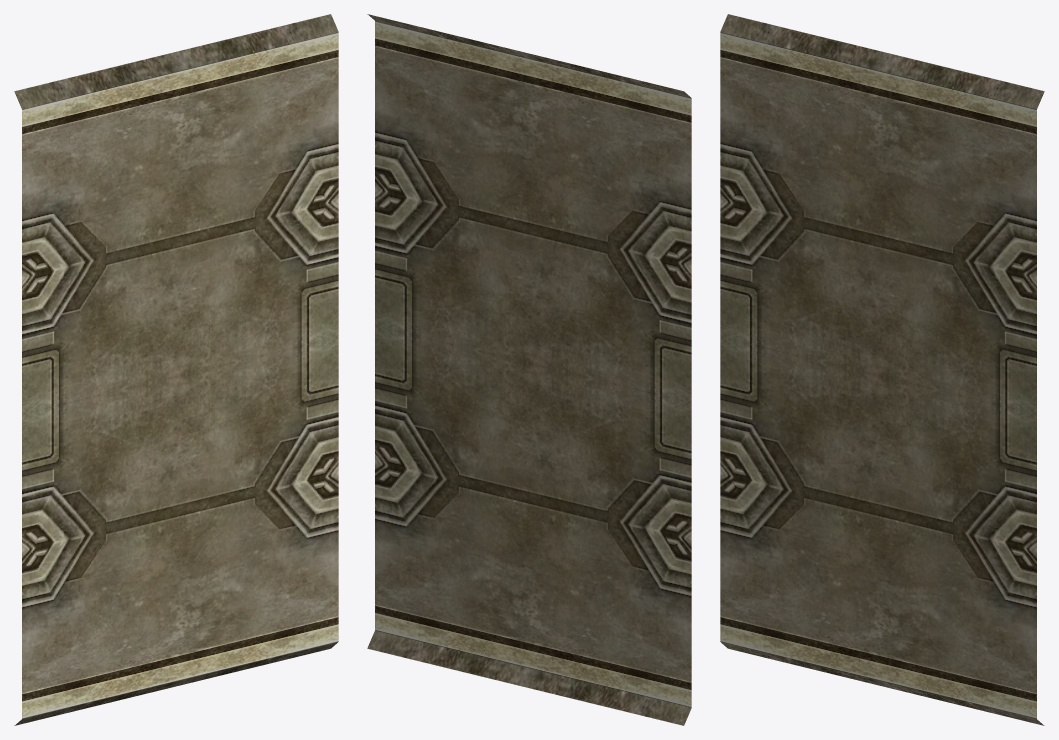
3 views of the same model, side by side, from view 1: azimuth 30°, elevation 25°; view 2: azimuth 150°, elevation 25°; view 3: azimuth 330°, elevation 25° (orthographic).
Parts seen in each view (by area): view 1: model_Object102; view 2: model_Object102; view 3: model_Object102.
Boxes of the visible parts, box(x1,y1,x2,y2) form: model_Object102: box(14, 14, 338, 725); model_Object102: box(367, 14, 691, 725); model_Object102: box(720, 14, 1044, 725).
Bounding box in the file's own units: 4.13 × 7.91 × 0.175.
1 material, 1 textured.
